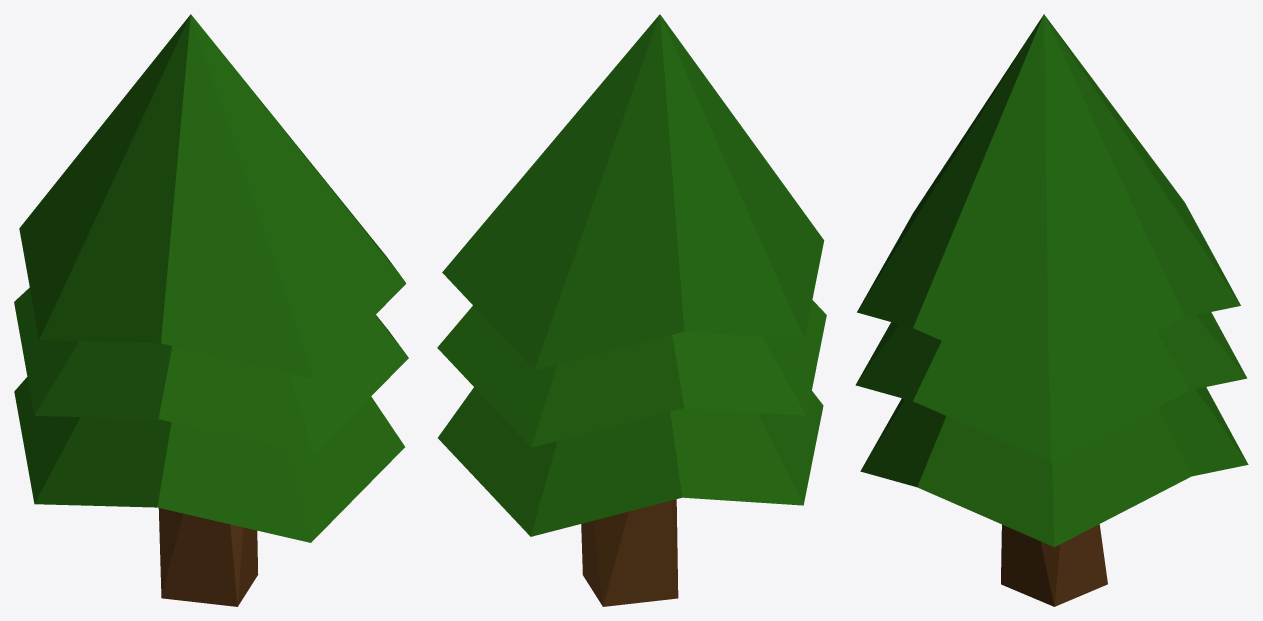
File: Tree_1_Optimized.glb
The picture shows the model from 3 angles, left to right: view 1: azimuth 30°, elevation 25°; view 2: azimuth 150°, elevation 25°; view 3: azimuth 270°, elevation 25°; orthographic projection. The views are drawn at different scales.
Visible parts, largest first — view 1: Cylinder; view 2: Cylinder; view 3: Cylinder.
Boxes of the visible parts, box(x1,y1,x2,y2) form: Cylinder: box(14, 14, 408, 606); Cylinder: box(437, 14, 826, 606); Cylinder: box(855, 14, 1248, 606).
Size of the model in its own units: 2.02 by 3.17 by 2.02.
Materials: 2 (2 with a texture image).
